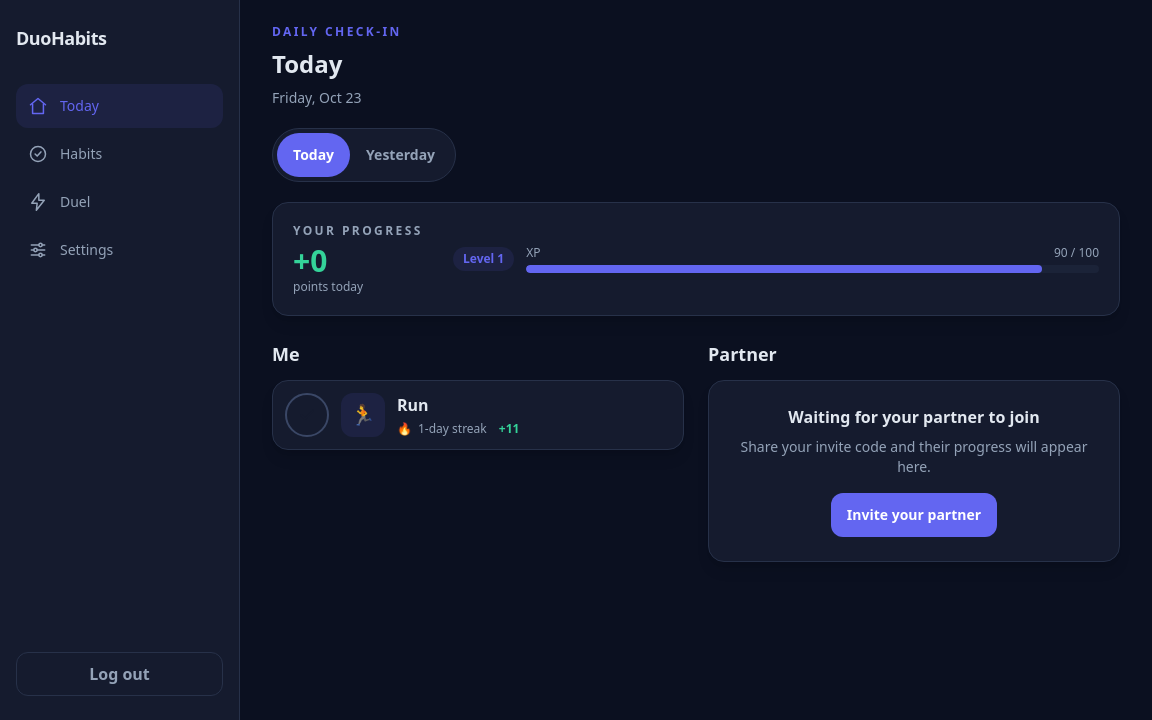
Test case: TodayPage › rolls back the optimistic check-in on a 500 and shows a toast
The image size is (1152, 720).
Expected: the text "Run" is shown, [397,394,429,416]
Click the button with aria-label "Mark Run done for today": (307, 415) [272,380,684,450]
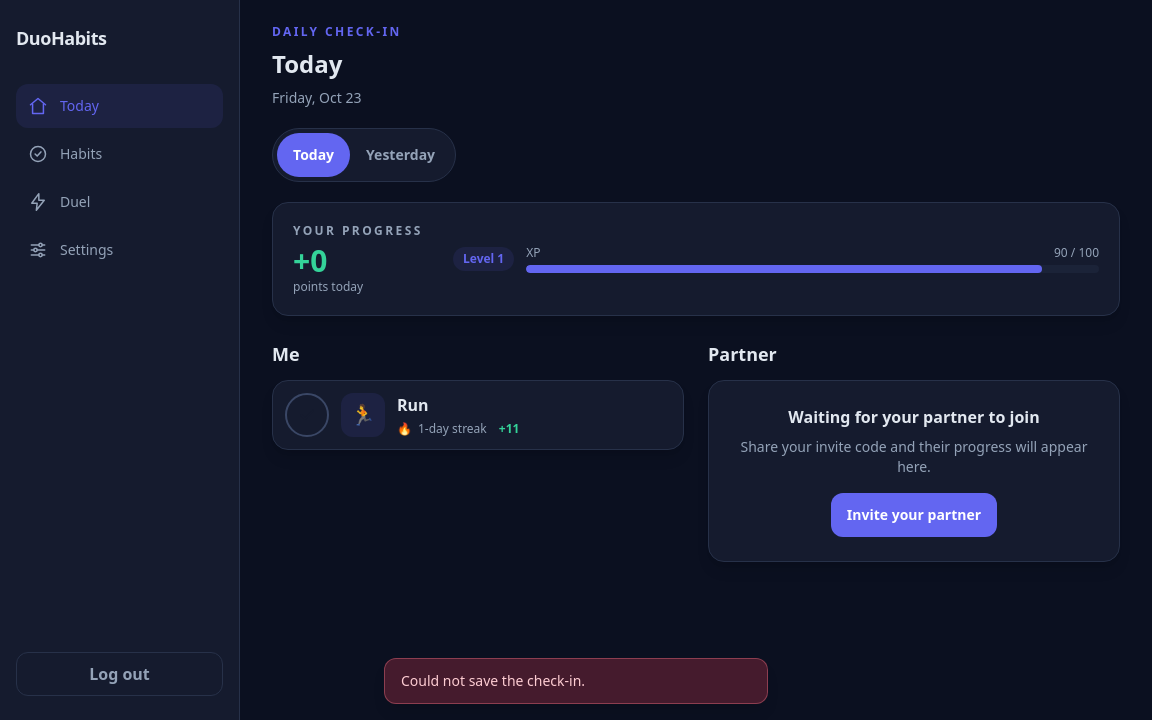
Result: the text "Could not save the check-in." is shown at [384,658,768,704]
